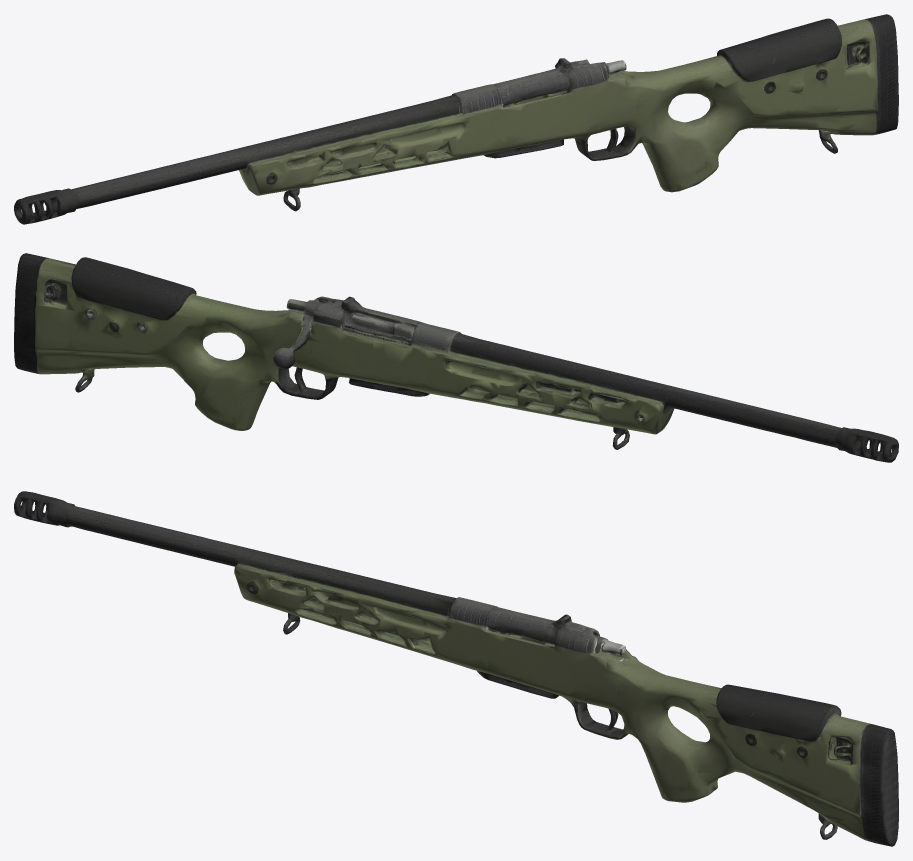
Rendered from Meshy_AI_Olive_Drab_Precision__0703114333_balanced.glb.
3 renders of one model, top to bottom at view 1: azimuth 30°, elevation 25°; view 2: azimuth 150°, elevation 25°; view 3: azimuth 330°, elevation 25°, orthographic.
Size of the model in its own units: 1.9 by 0.3215 by 0.1465.
1 material, 1 textured.
